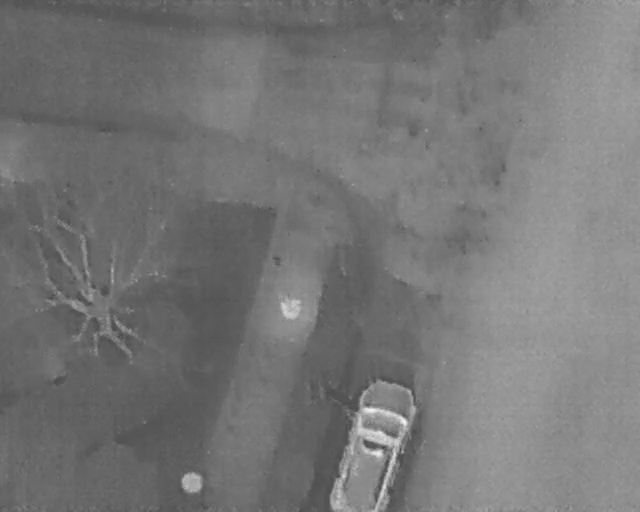Car: (330, 376, 416, 509)
